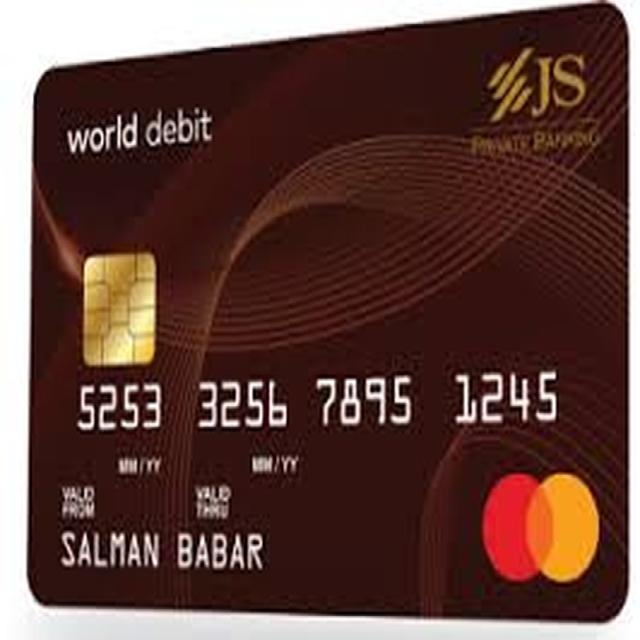card: (16, 37, 635, 634)
